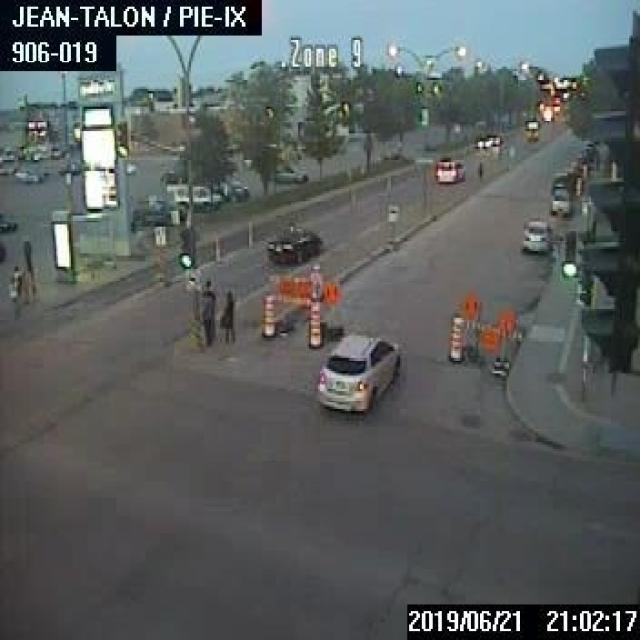construction: (461, 292, 521, 377), (271, 262, 337, 338), (446, 314, 463, 361), (306, 300, 321, 347), (259, 293, 274, 337), (574, 174, 580, 194)
pedestrian: (200, 276, 214, 342), (217, 288, 234, 340), (7, 258, 21, 315), (21, 237, 31, 270), (474, 160, 486, 180)
vehicle: (312, 331, 403, 409), (267, 220, 321, 262), (131, 195, 186, 221), (165, 182, 220, 208), (518, 219, 551, 253), (203, 175, 245, 201), (434, 153, 464, 183), (276, 163, 306, 182), (550, 189, 570, 214), (550, 171, 572, 191), (160, 167, 187, 182), (13, 167, 40, 180), (57, 160, 79, 173), (0, 216, 16, 230), (475, 134, 491, 147), (550, 182, 566, 195), (524, 117, 538, 129), (488, 132, 501, 144), (125, 161, 135, 172)
